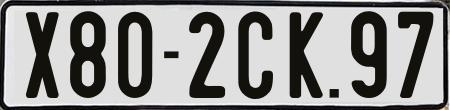0: (116, 9, 156, 95)
2: (187, 11, 224, 103)
7: (395, 9, 429, 98)
8: (68, 8, 108, 98)
9: (351, 8, 391, 99)
C: (236, 8, 275, 101)
K: (290, 12, 326, 99)
X: (23, 10, 57, 96)
